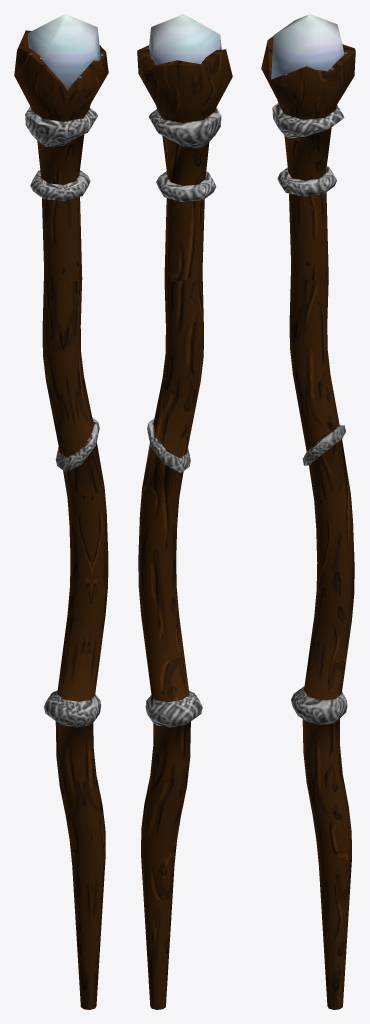
Rendered from Staff01.fbx.
3 views of the same model, side by side, from view 1: azimuth 30°, elevation 25°; view 2: azimuth 150°, elevation 25°; view 3: azimuth 330°, elevation 25° (orthographic).
Parts seen in each view (by area): view 1: Staff01; view 2: Staff01; view 3: Staff01.
Boxes of the visible parts, x1,y1,x2,y2 form: Staff01: [14, 14, 108, 1009]; Staff01: [137, 14, 232, 1009]; Staff01: [261, 14, 355, 1009].
Size of the model in its own units: 11.73 by 137 by 11.32.
